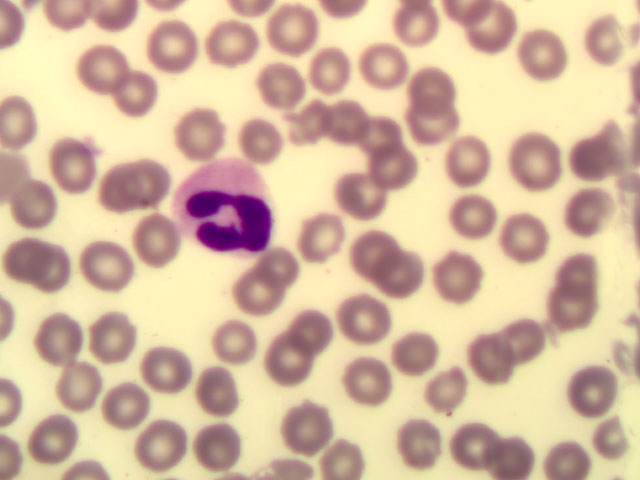RBC: (77, 43, 127, 95), (110, 76, 160, 128), (140, 20, 190, 72), (204, 16, 254, 68), (252, 59, 302, 111), (177, 106, 227, 158), (126, 151, 176, 203), (93, 170, 143, 222), (54, 142, 104, 194), (10, 175, 60, 227), (29, 241, 79, 293), (84, 239, 134, 291), (133, 210, 183, 262), (36, 310, 86, 362), (90, 312, 140, 364), (53, 356, 103, 408), (29, 399, 79, 451), (101, 379, 151, 431), (142, 349, 192, 401), (140, 418, 190, 470), (195, 371, 245, 423), (184, 421, 234, 473), (214, 314, 264, 366), (234, 269, 284, 321), (256, 237, 306, 289), (293, 210, 343, 262), (330, 171, 380, 223), (359, 146, 409, 198), (365, 114, 415, 166), (330, 96, 380, 148), (286, 92, 336, 144), (232, 115, 282, 167), (310, 41, 360, 93), (370, 35, 420, 87), (270, 7, 320, 59), (412, 64, 462, 116), (405, 107, 455, 159), (447, 129, 497, 181), (452, 187, 502, 239), (432, 252, 482, 304), (377, 251, 427, 303), (354, 233, 404, 285), (339, 288, 389, 340), (298, 298, 348, 350), (270, 335, 320, 387), (344, 356, 394, 408), (388, 330, 438, 382), (425, 371, 475, 423), (387, 416, 437, 468), (320, 428, 370, 480), (287, 401, 337, 453), (451, 417, 501, 469), (485, 428, 535, 480), (547, 428, 597, 480), (566, 365, 616, 417), (586, 410, 636, 462), (470, 331, 520, 383), (490, 320, 540, 372), (538, 296, 588, 348), (561, 254, 611, 306), (507, 216, 557, 268), (558, 196, 608, 248), (505, 137, 555, 189), (577, 127, 627, 179), (517, 30, 567, 82), (590, 11, 640, 63), (468, 3, 518, 55), (396, 1, 446, 52), (1, 237, 50, 289), (1, 96, 50, 148)
WBC: (173, 160, 279, 257)
